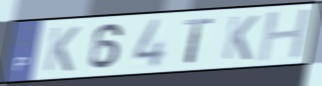4: (131, 17, 168, 71)
6: (87, 22, 124, 71)
H: (255, 6, 314, 64)
K: (41, 25, 83, 73), (220, 14, 261, 62)
T: (182, 16, 215, 65)
